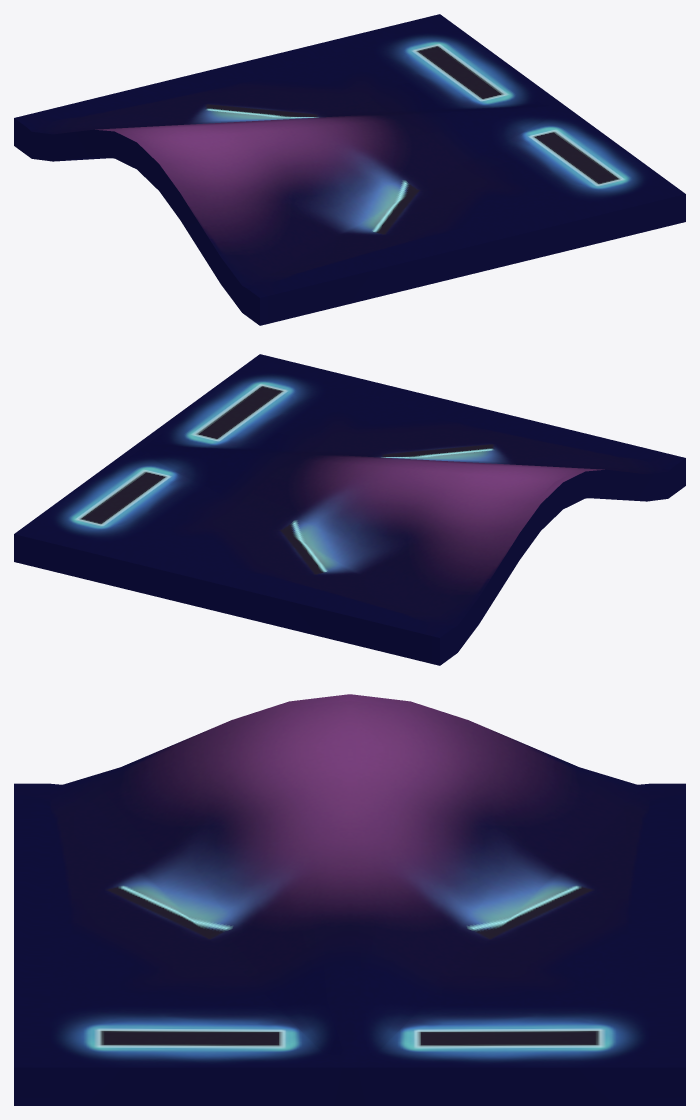
File: urban_sidebend.gltf
3 renders of one model, top to bottom at view 1: azimuth 30°, elevation 25°; view 2: azimuth 150°, elevation 25°; view 3: azimuth 270°, elevation 25°, orthographic. The views are drawn at different scales.
Visible parts, largest first — view 1: urban_sidebend_glb; view 2: urban_sidebend_glb; view 3: urban_sidebend_glb.
Part boxes in pixels (bbox=[...]): urban_sidebend_glb: bbox=[14, 14, 685, 325]; urban_sidebend_glb: bbox=[14, 354, 685, 665]; urban_sidebend_glb: bbox=[14, 694, 685, 1105].
Size of what is drawn, in the model's own units: 4 by 0.8385 by 4.
1 material, 1 textured.
